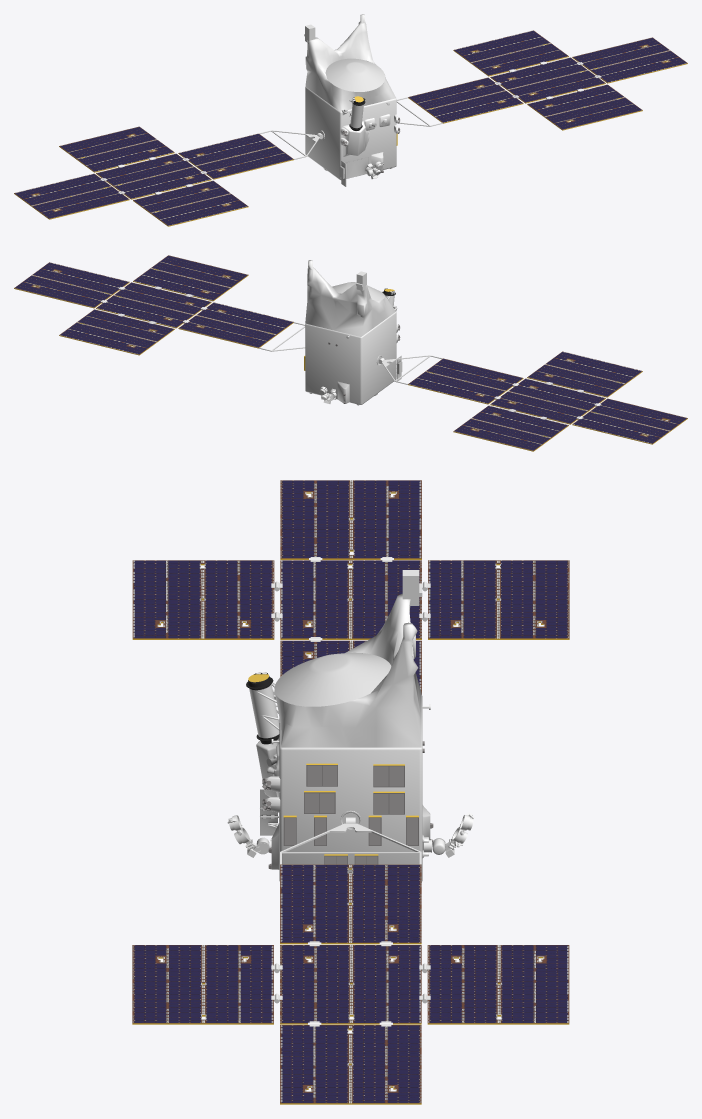
The model's file is psyche.gltf.
3 renders of one model, top to bottom at view 1: azimuth 30°, elevation 25°; view 2: azimuth 150°, elevation 25°; view 3: azimuth 270°, elevation 25°, orthographic. The views are drawn at different scales.
Visible parts, largest first — view 1: Array LP Right, Array LP Left, Bus, psyche_ext_config__04-27-2021.003, reflector; view 2: Array LP Left, Array LP Right, Bus, psyche_ext_config__04-27-2021.003; view 3: Array LP Right, Array LP Left, psyche_ext_config__04-27-2021.003, Bus, louvers, dongs, Cylinder, bracketRight.
Boxes of the visible parts, x1,y1,x2,y2 form: Array LP Right: (408,30,687,130); Array LP Left: (14,126,293,226); Bus: (305,87,399,179); psyche_ext_config__04-27-2021.003: (305,14,395,111); reflector: (340,157,368,186); Array LP Left: (408,351,687,451); Array LP Right: (14,255,293,355); Bus: (305,312,398,405); psyche_ext_config__04-27-2021.003: (305,260,395,336); Array LP Right: (132,864,569,1104); Array LP Left: (132,480,569,694); psyche_ext_config__04-27-2021.003: (274,593,421,747); Bus: (256,695,430,882); louvers: (283,763,418,864); dongs: (227,812,473,857); Cylinder: (249,684,279,738); bracketRight: (280,823,421,864).
Bounding box in the file's own units: 24.74 × 4.94 × 7.34.
Materials: 12 (2 with a texture image).
